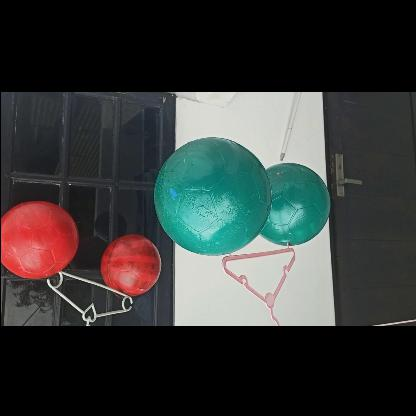red_ball: (1, 198, 75, 280), (98, 235, 158, 295)
